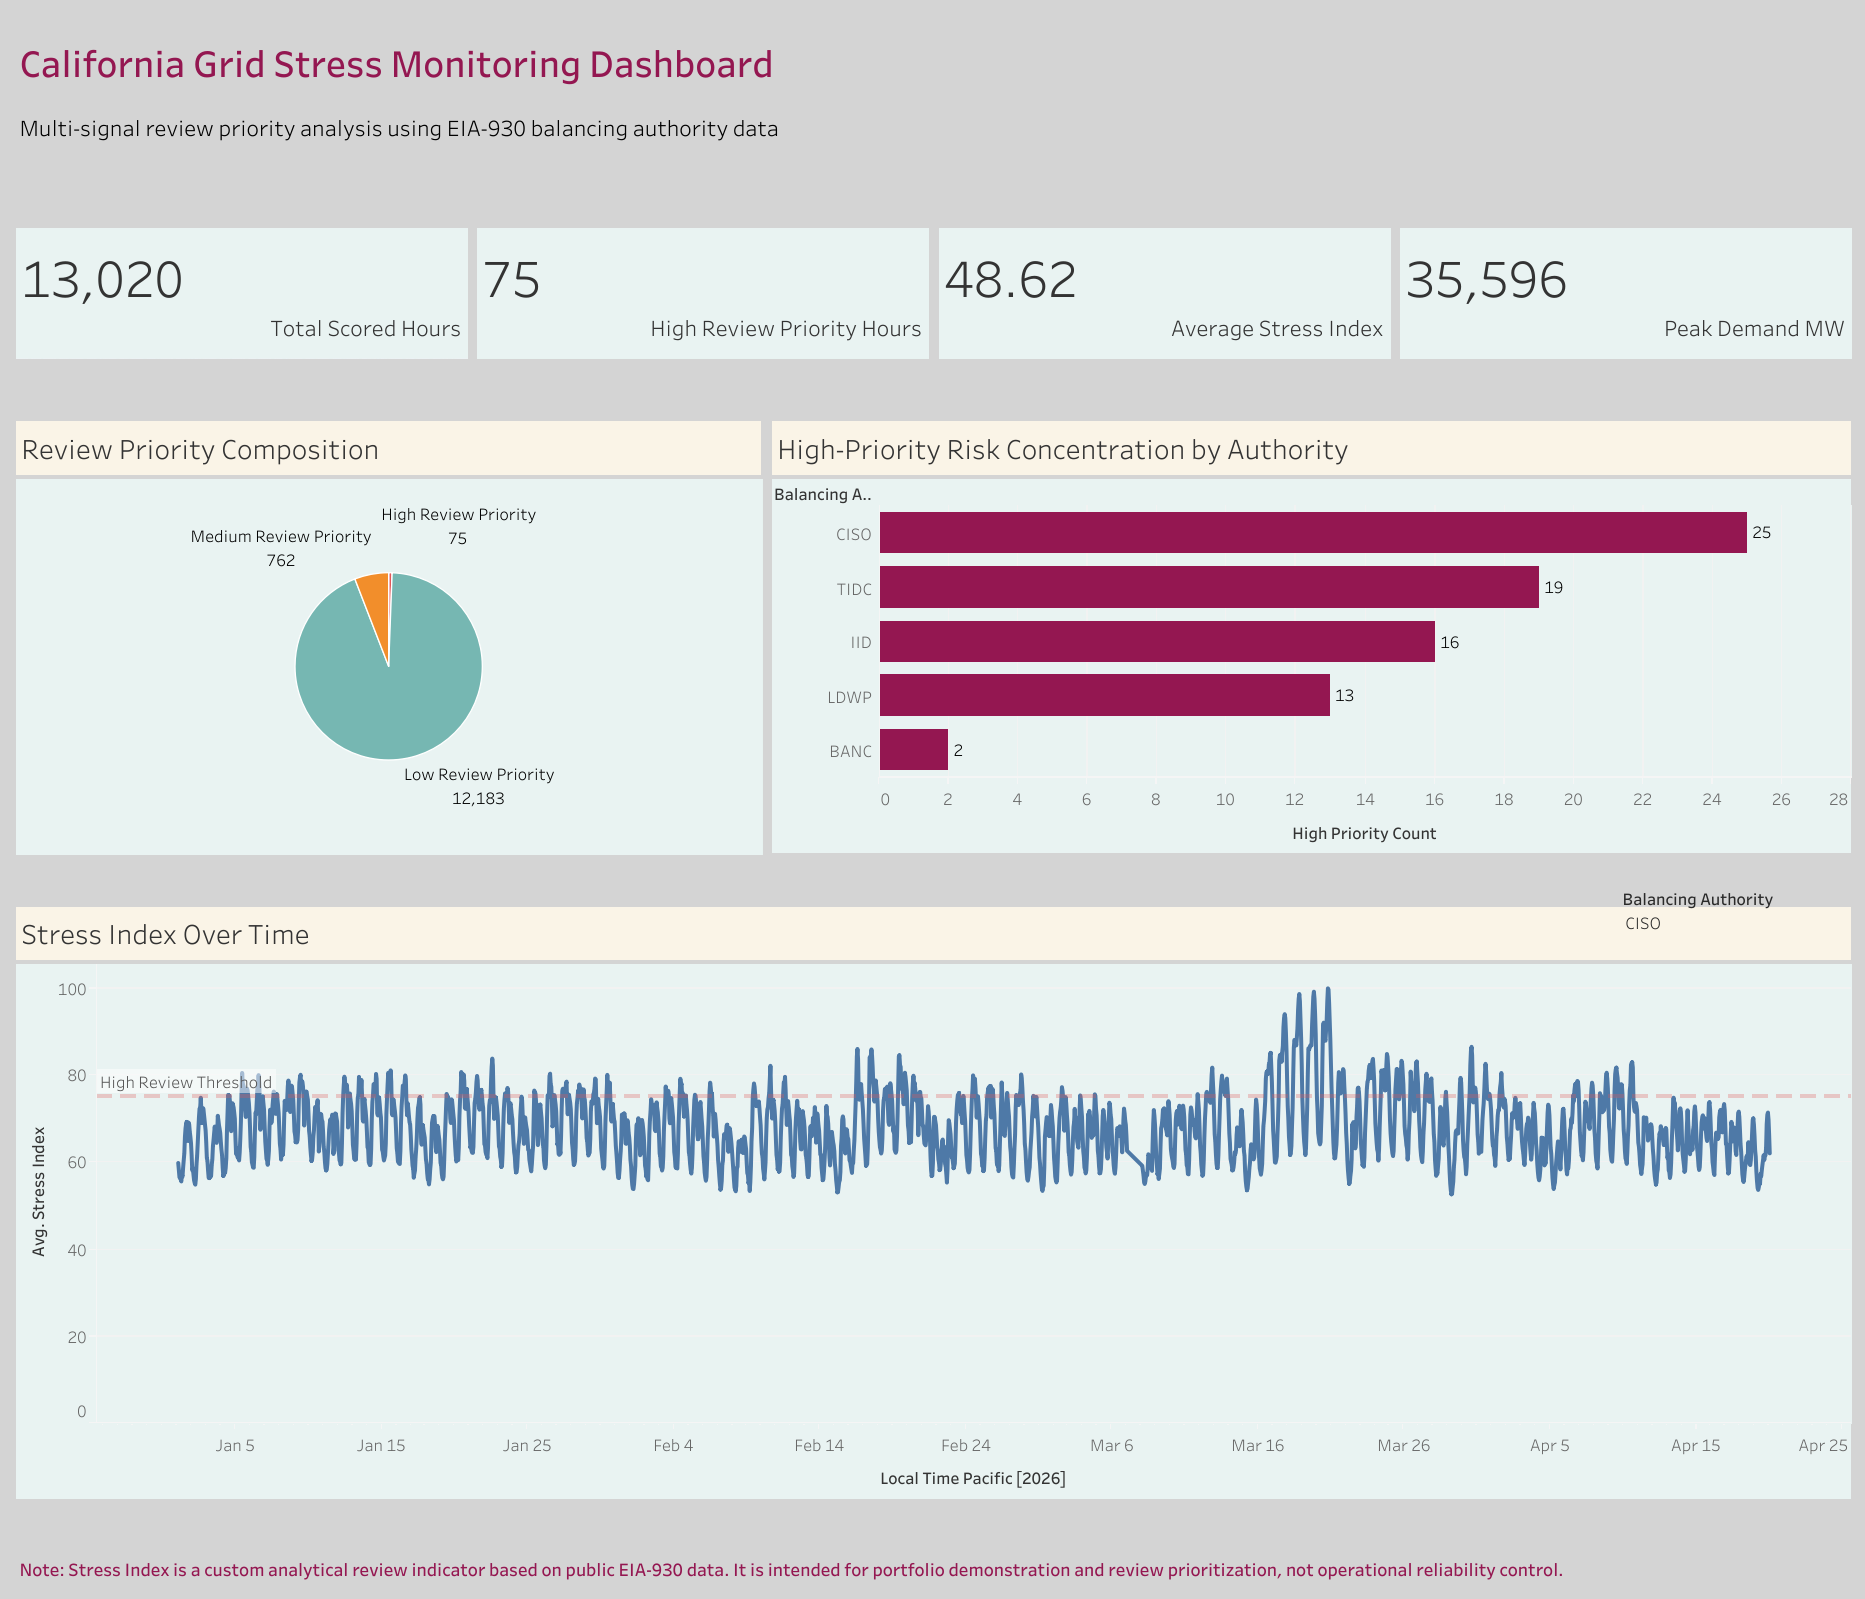

What the dashboard file says about the page in this screenshot:
{"tool":"tableau","page":{"name":"Executive Overview","canvas":[1000,1000],"units":"permille","ordinal":1},"visuals":[{"type":"text","box":[5.7,6.7,988.6,70.2]},{"type":"blank","box":[5.7,76.9,988.6,29.6]},{"type":"worksheet","title":"KPI - Total Scored Hours","mark":"Automatic","box":[5.7,106.5,247.1,78]},{"type":"worksheet","title":"KPI - High Review Priority Hours","mark":"Automatic","box":[252.8,106.5,247.1,78]},{"type":"worksheet","title":"KPI - Average Stress Index","mark":"Automatic","box":[500,106.5,247.1,78]},{"type":"worksheet","title":"KPI - Peak Demand MW","mark":"Automatic","box":[747.1,106.5,247.1,78]},{"type":"blank","box":[5.7,184.4,988.6,26.8]},{"type":"worksheet","title":"Review Priority Composition","mark":"Pie","box":[5.7,211.2,405,261.5]},{"type":"worksheet","title":"High-Priority Risk by Authority","mark":"Automatic","rows":["balancing_authority"],"cols":["Calculation_2080618172174336"],"box":[410.7,211.2,583.6,261.5]},{"type":"blank","box":[5.7,472.7,988.6,26.1]},{"type":"worksheet","title":"Stress Index Over Time","mark":"Line","rows":["stress_index"],"cols":["local_time_pacific"],"box":[5.7,498.9,988.6,440.8]},{"type":"filter","title":"Stress Index Over Time","param":"[federated.17h0ghz0b34qph1a8vgzj0fkn2dw].[none:balancing_authority:nk]","box":[869.3,553.2,120,43.6]},{"type":"blank","box":[5.7,939.6,988.6,26.8]},{"type":"text","box":[5.7,966.5,988.6,26.8]}]}

Visuals, with their boxes on the dashboard's canvas, which has no fixed pixel size, in thousandths of its width and height (x1, y1, x2, y2). These are canvas units, not pixel positions in the 1865x1599 screenshot, which may show the page scaled, cropped or inside an application window:
text: detection(6, 7, 994, 77)
blank: detection(6, 77, 994, 106)
"KPI - Total Scored Hours" worksheet: detection(6, 106, 253, 184)
"KPI - High Review Priority Hours" worksheet: detection(253, 106, 500, 184)
"KPI - Average Stress Index" worksheet: detection(500, 106, 747, 184)
"KPI - Peak Demand MW" worksheet: detection(747, 106, 994, 184)
blank: detection(6, 184, 994, 211)
"Review Priority Composition" worksheet (Pie marks): detection(6, 211, 411, 473)
"High-Priority Risk by Authority" worksheet: detection(411, 211, 994, 473)
blank: detection(6, 473, 994, 499)
"Stress Index Over Time" worksheet (Line marks): detection(6, 499, 994, 940)
"Stress Index Over Time" filter: detection(869, 553, 989, 597)
blank: detection(6, 940, 994, 966)
text: detection(6, 966, 994, 993)
